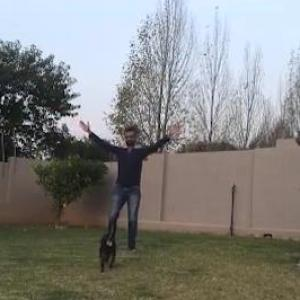takeoff: (81, 121, 182, 246)
